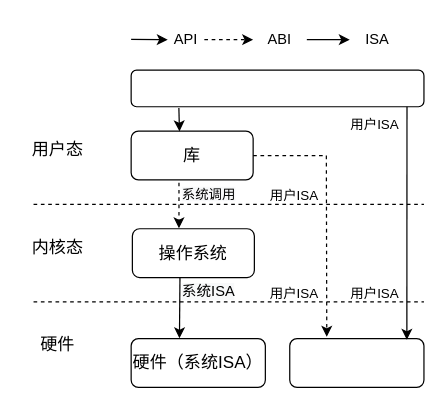
Some shapes in this 447 by 409 pixel diagram are drawn without their labels. The centre of each missing label's shape, as x and y in pixels:
"应用程序" belongs at point (277, 88).
"硬件（用户ISA）" belongs at point (356, 362).
